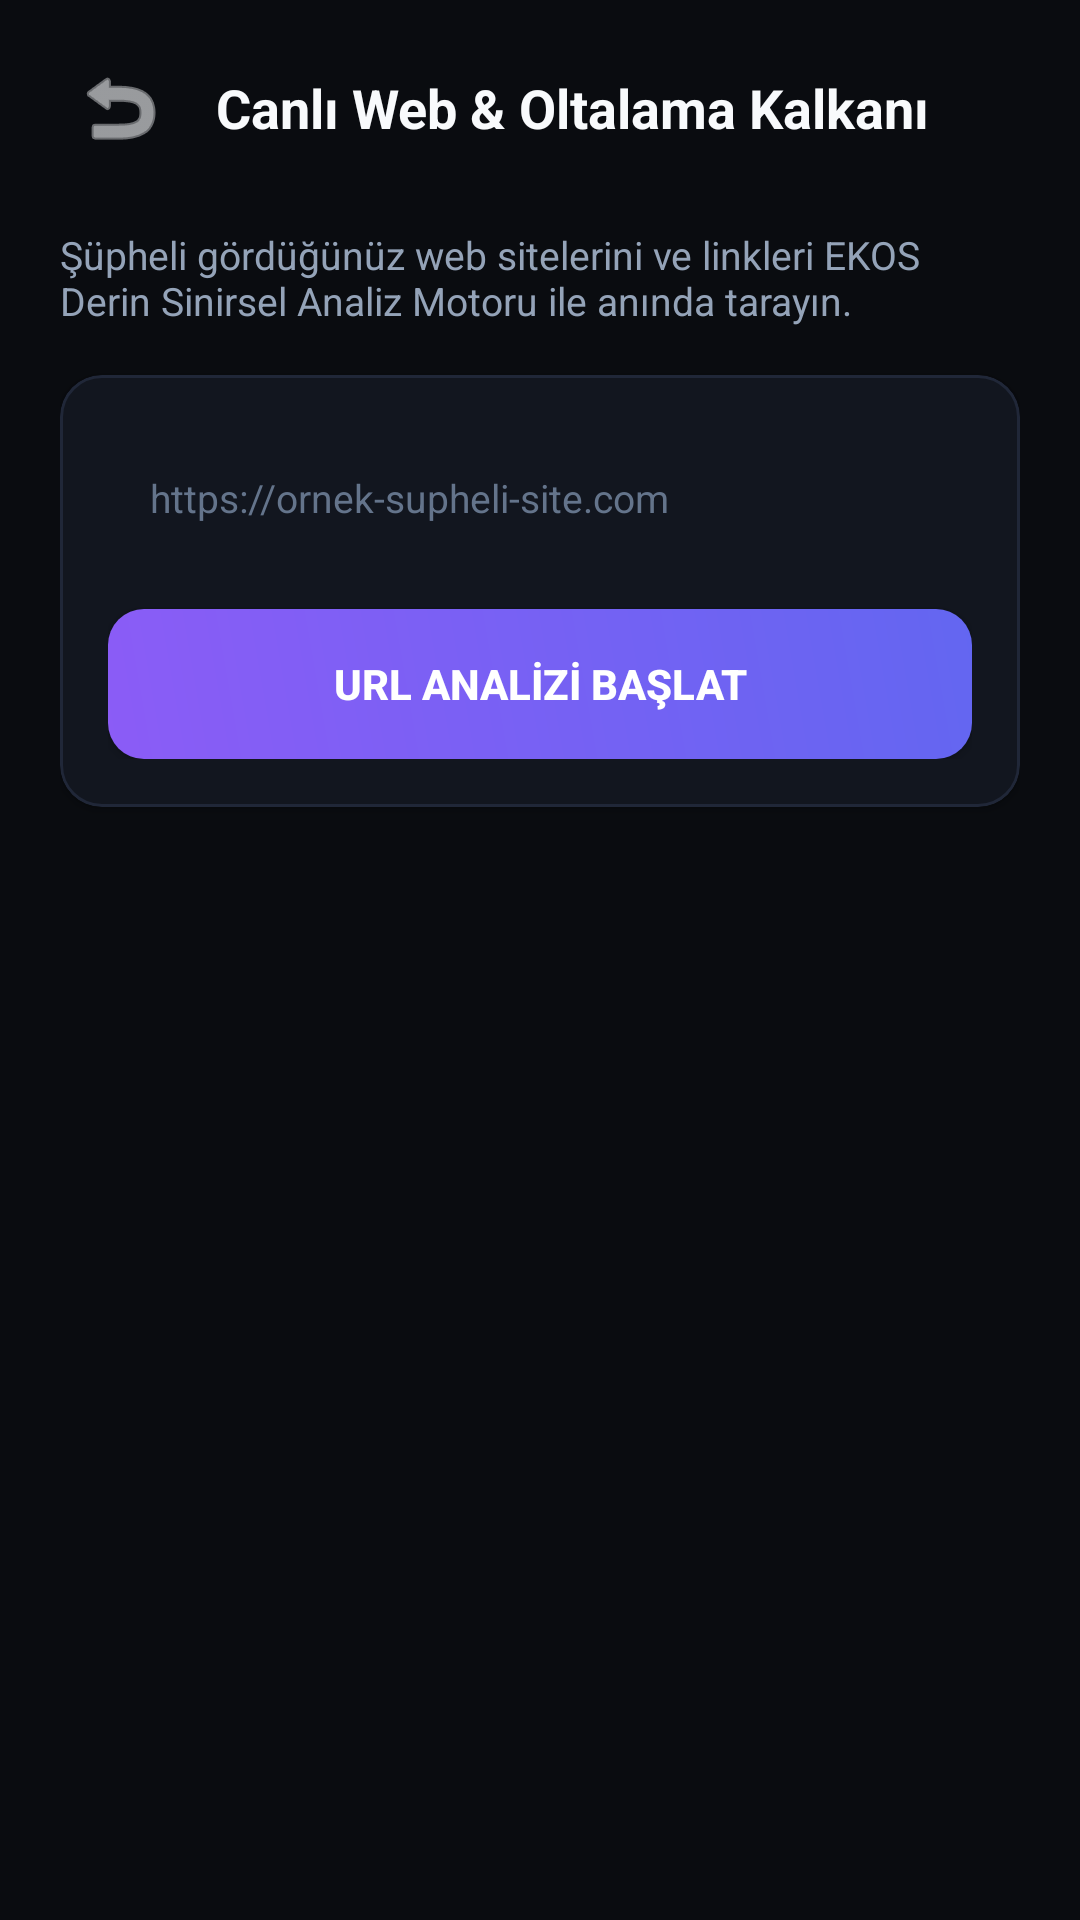

Named icons in this screenshot (1080 × 1920) and their centers, (x=x, y=y):
Back: (x=121, y=108)
